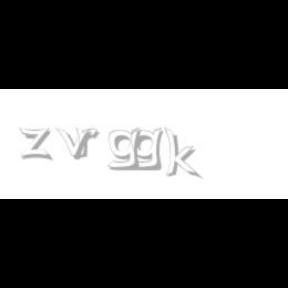g: (108, 128, 144, 171), (130, 128, 166, 171)
k: (164, 128, 202, 180)
r: (76, 128, 102, 158)
v: (55, 128, 95, 160)
z: (19, 128, 55, 160)
